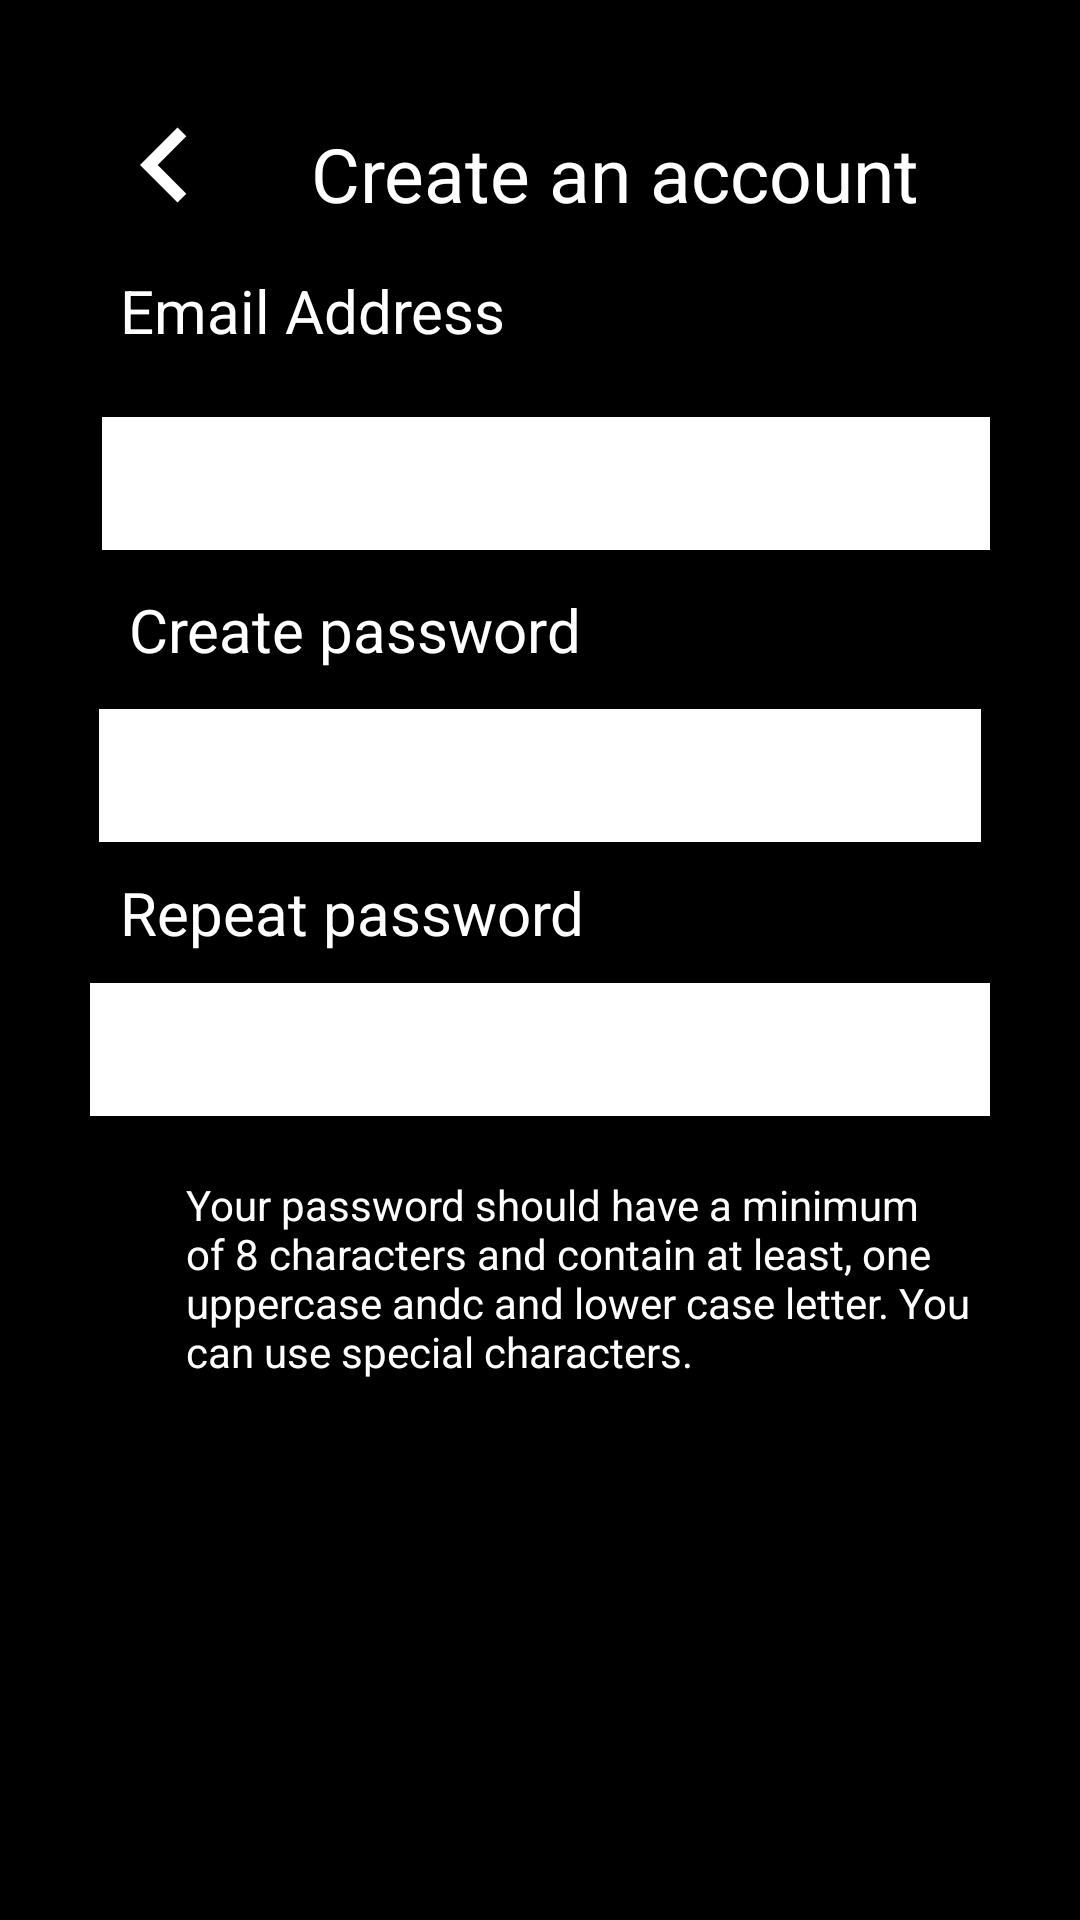

Point at icon controls on the screen. Image size 1080w x 1920h, points as point (x, y).
chevron left: point (163, 165)
